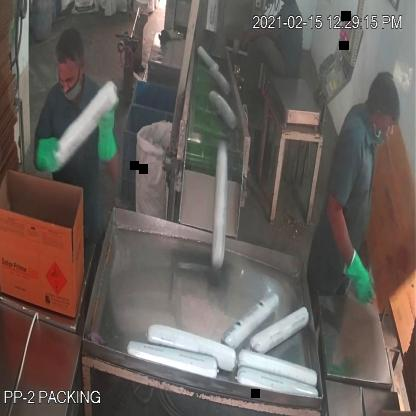glove: (337, 231, 379, 308), (92, 90, 120, 168), (30, 132, 64, 182)
no_glove: (237, 18, 286, 54)
